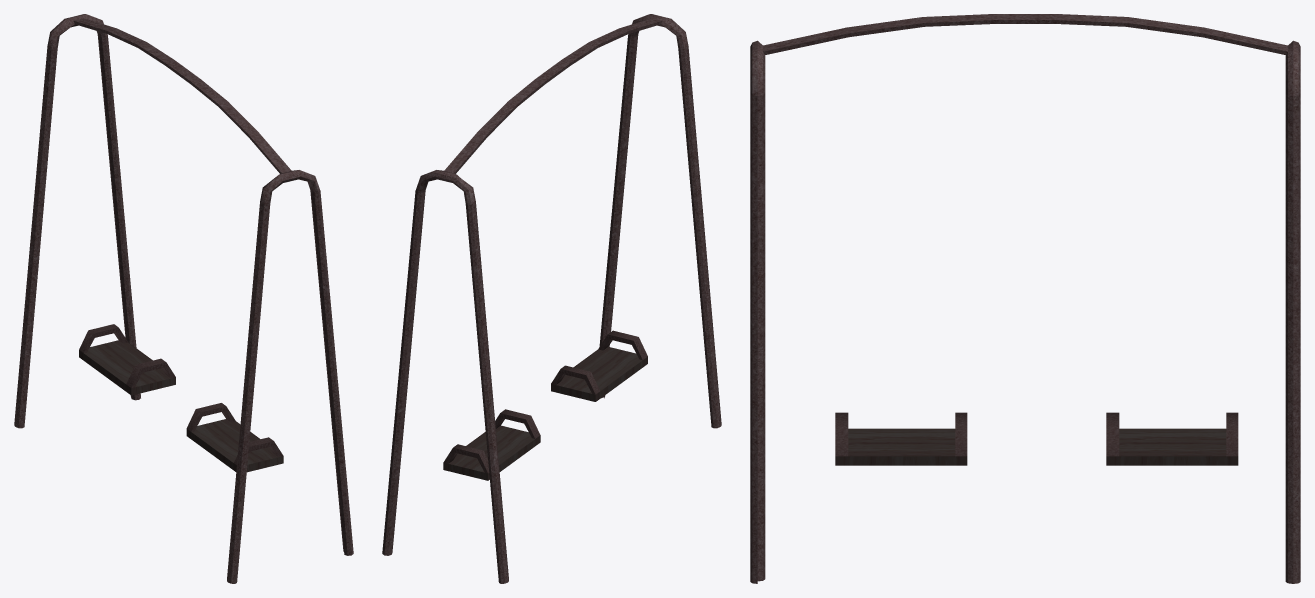
The model's file is swing.fbx.
3 views of the same model, side by side, from view 1: azimuth 30°, elevation 25°; view 2: azimuth 150°, elevation 25°; view 3: azimuth 270°, elevation 25° (orthographic). The views are drawn at different scales.
Parts seen in each view (by area): view 1: pCylinder3, pCube2, pCube1; view 2: pCylinder3, pCube1, pCube2; view 3: pCylinder3, pCube1, pCube2.
Boxes of the visible parts, bbox=[...] form: pCylinder3: bbox=[14, 14, 353, 583]; pCube2: bbox=[79, 324, 175, 395]; pCube1: bbox=[186, 403, 283, 472]; pCylinder3: bbox=[382, 14, 721, 583]; pCube1: bbox=[551, 330, 647, 401]; pCube2: bbox=[443, 409, 540, 480]; pCylinder3: bbox=[750, 14, 1300, 583]; pCube1: bbox=[835, 412, 967, 465]; pCube2: bbox=[1106, 412, 1238, 465].
Size of the model in its own units: 3.63 by 11.63 by 10.97.
1 material, 1 textured.
